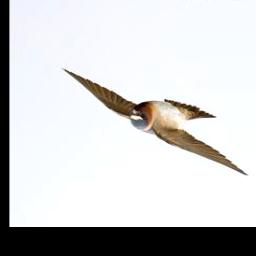Swallow: (62, 70, 251, 180)
